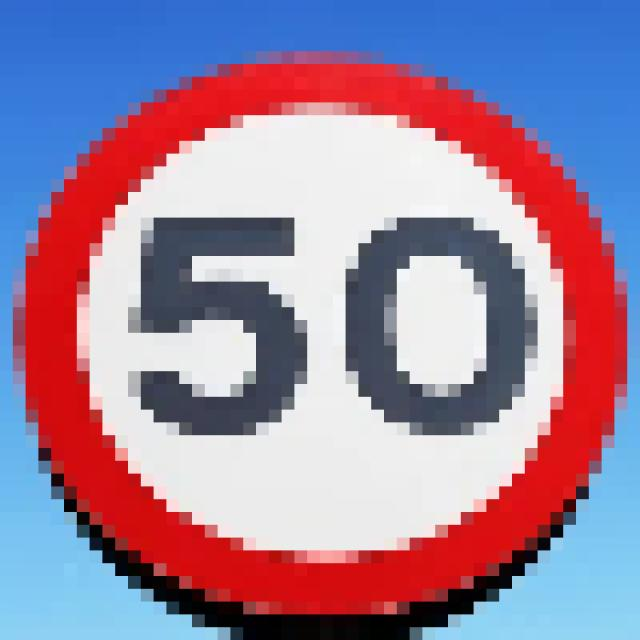Limite-50: (16, 50, 630, 619)
